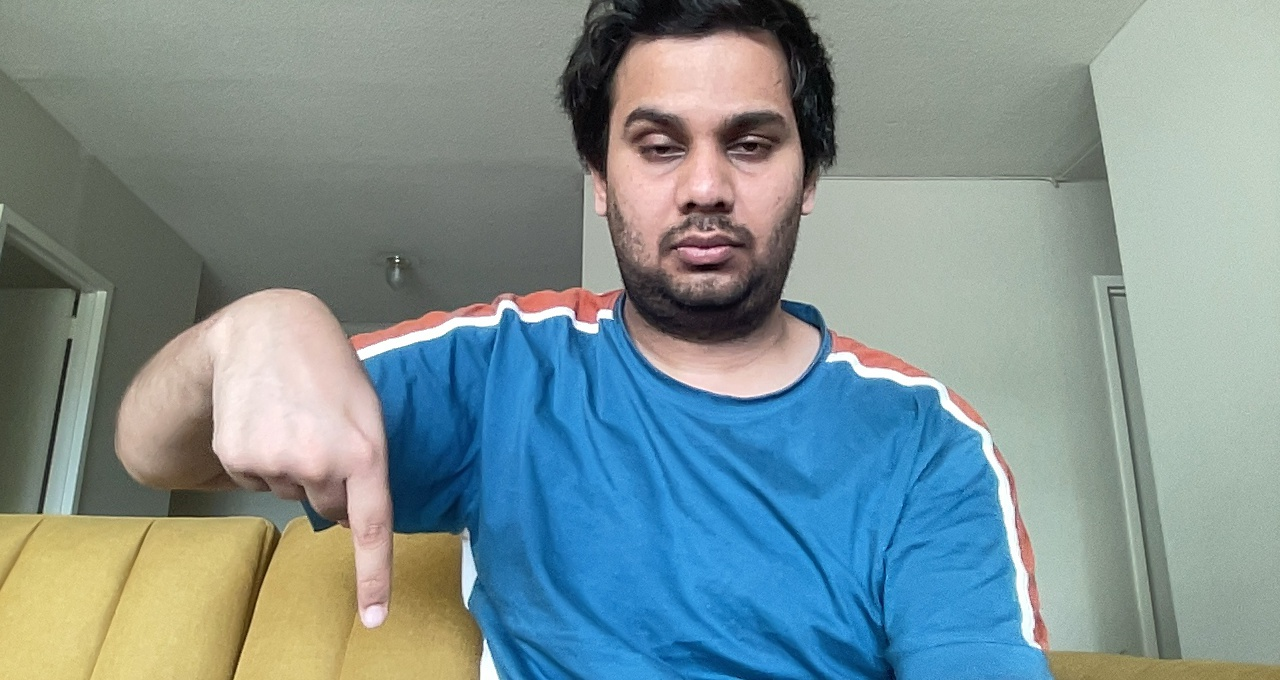fingerdown: (189, 286, 401, 638)
